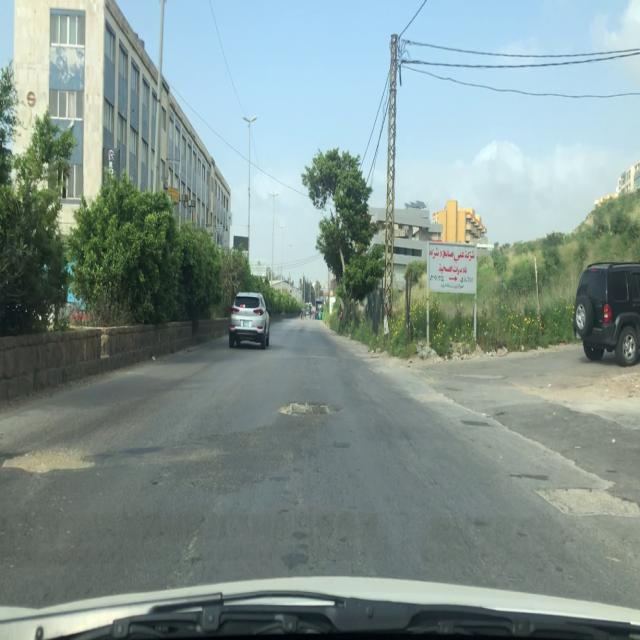Pothole: (0, 440, 101, 478), (276, 391, 342, 422)
